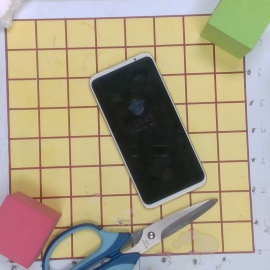phone: (89, 52, 209, 210)
